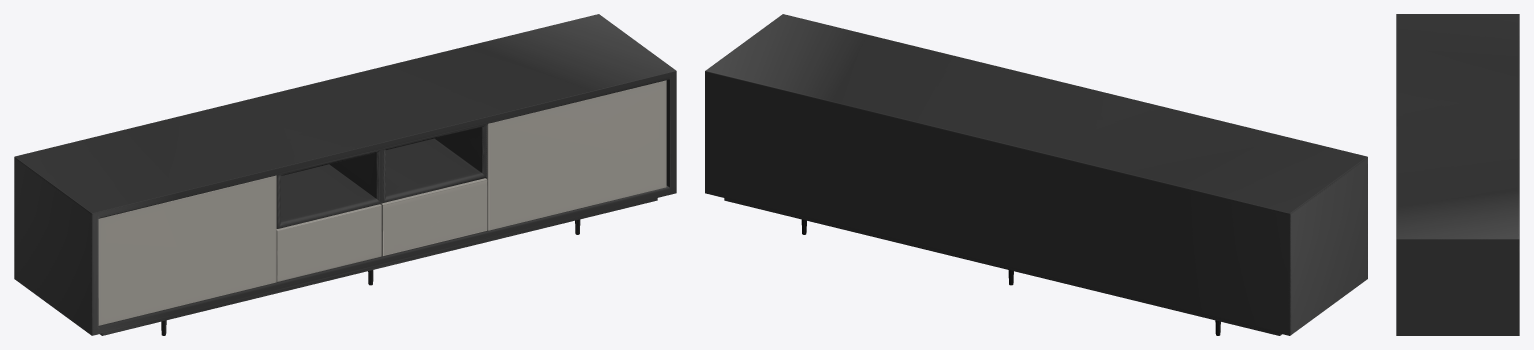
3 renders of one model, left to right at view 1: azimuth 30°, elevation 25°; view 2: azimuth 150°, elevation 25°; view 3: azimuth 270°, elevation 25°, orthographic. The views are drawn at different scales.
Parts seen in each view (by area): view 1: solid_003, solid_002; view 2: solid_003; view 3: solid_003.
Part boxes in pixels (x1,y1,x2,y2): solid_003: [14, 14, 676, 335]; solid_002: [98, 80, 666, 325]; solid_003: [705, 14, 1367, 335]; solid_003: [1396, 14, 1519, 335].
Bounding box in the file's own units: 2 × 0.5001 × 0.4615.
1 material, 1 textured.
